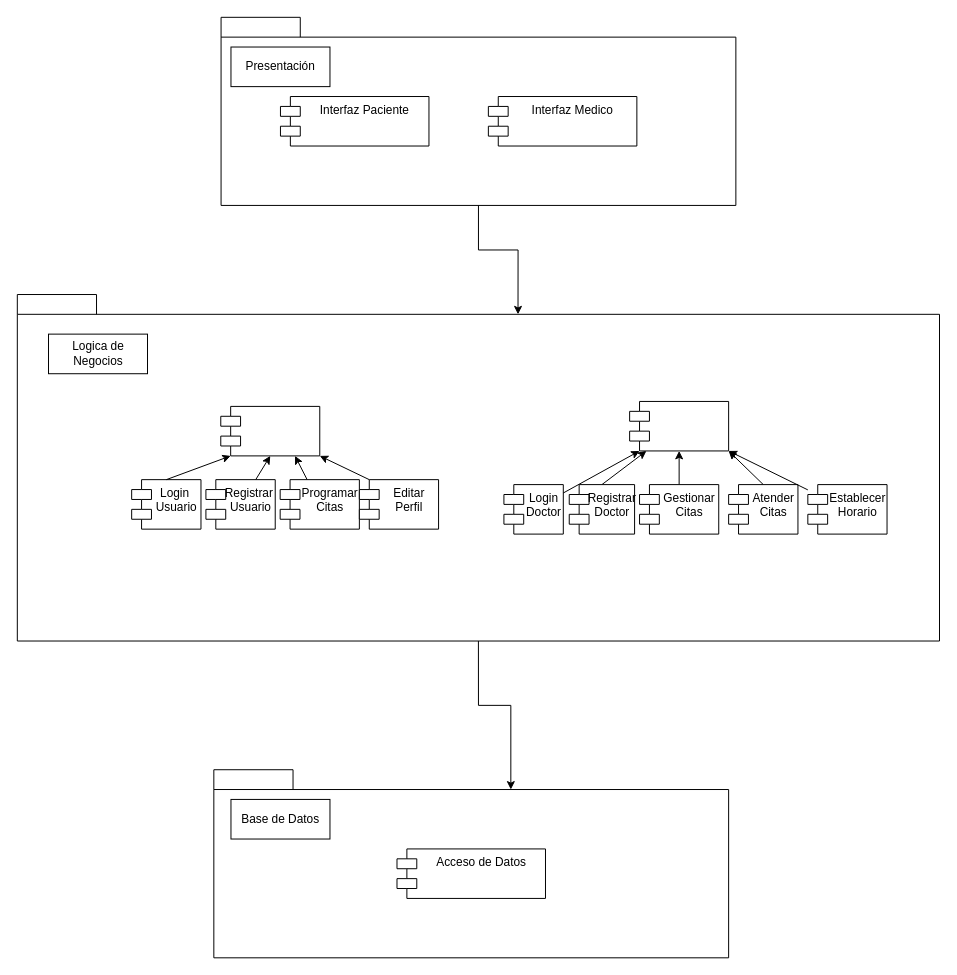
The diagram is 957 pixels wide and 975 high, and some of its shapes have lost their labels. Each missing label, with the centre of its shape:
"Doctor" goes at [679,425].
"Paciente" goes at [270,430].
